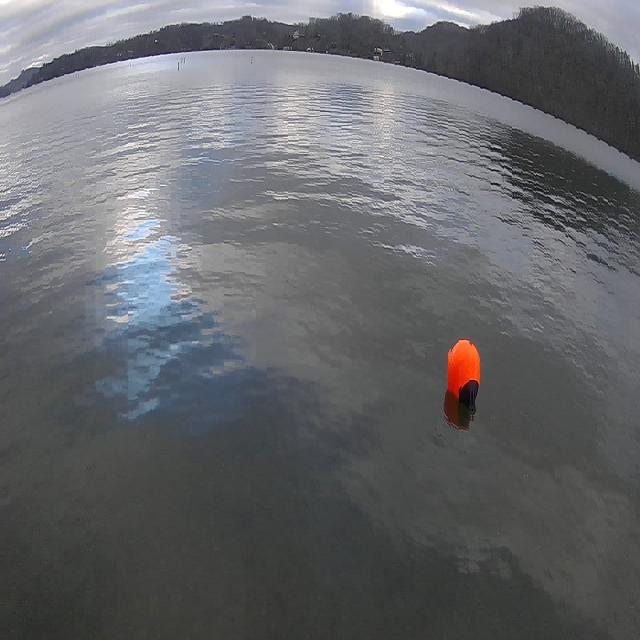Buoy: (442, 328, 487, 416)
